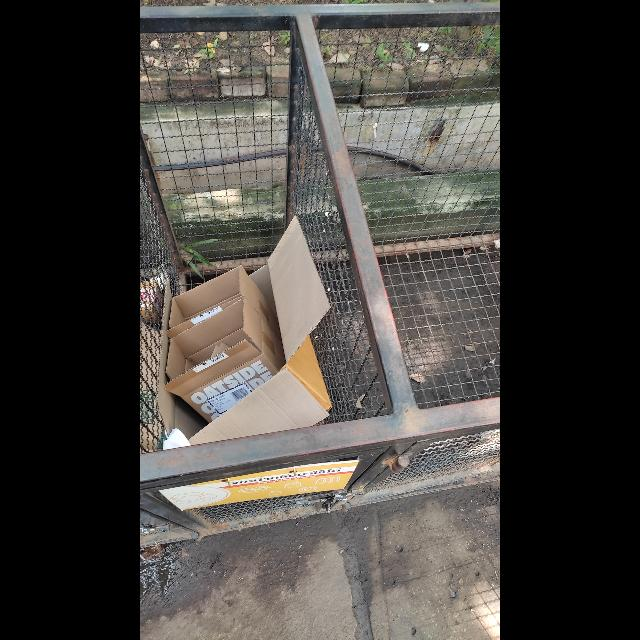cardboard_box: (154, 210, 336, 462), (165, 300, 285, 424), (167, 267, 275, 347)
